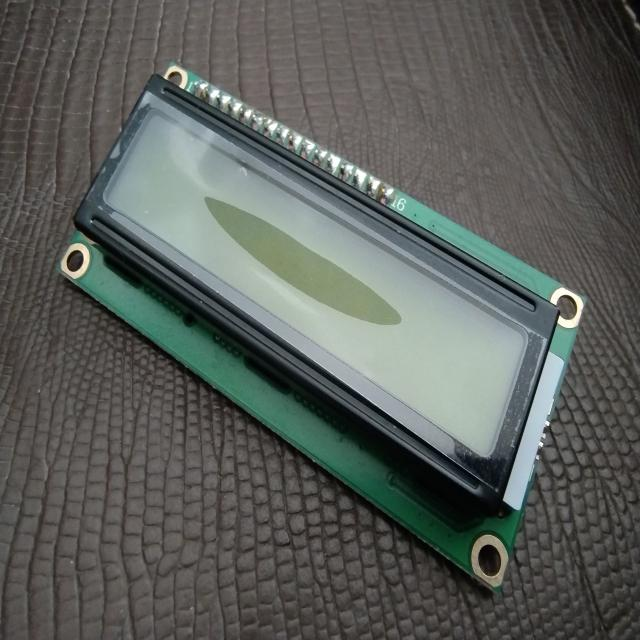lcd: (53, 38, 609, 606)
